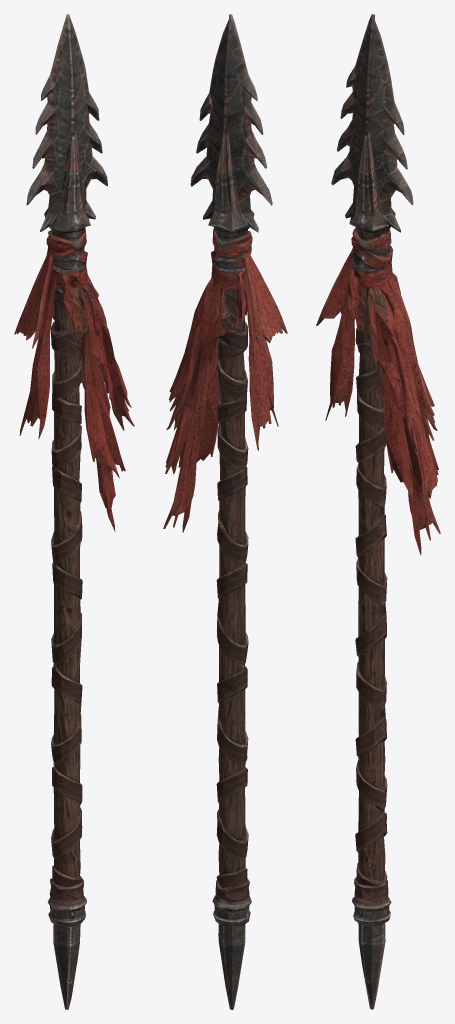
Rendered from pigspear-spear.glb.
3 views of the same model, side by side, from view 1: azimuth 30°, elevation 25°; view 2: azimuth 150°, elevation 25°; view 3: azimuth 330°, elevation 25° (orthographic).
Visible parts, largest first — view 1: output_unwrapped; view 2: output_unwrapped; view 3: output_unwrapped.
Boxes of the visible parts, x1,y1,x2,y2 form: output_unwrapped: [14, 14, 134, 1009]; output_unwrapped: [163, 14, 287, 1009]; output_unwrapped: [316, 14, 440, 1009].
Bounding box in the file's own units: 0.2161 × 1.9 × 0.1109.
1 material, 1 textured.
